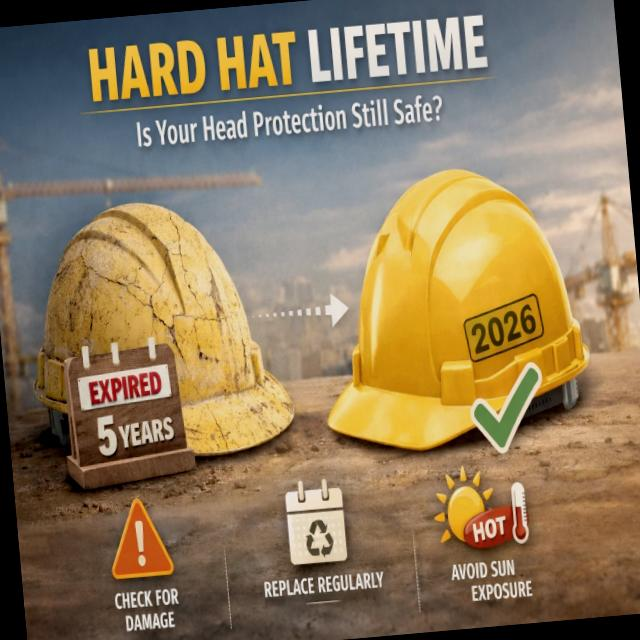BrokenHelmet: (59, 209, 234, 355)
